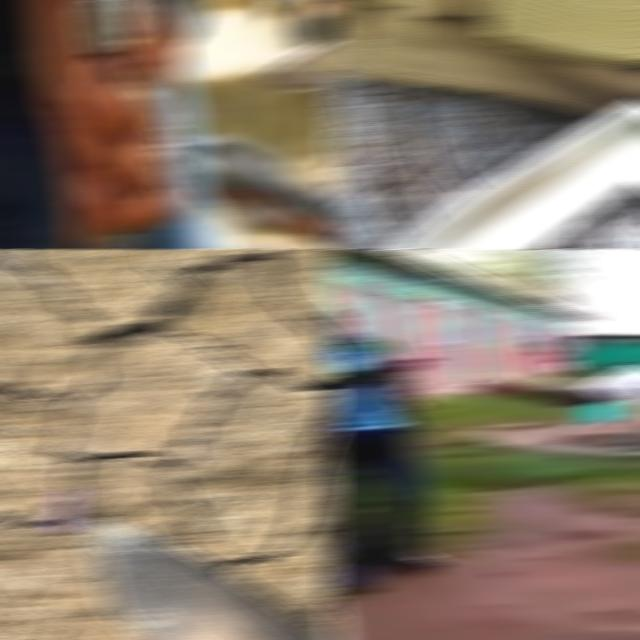Knife: (385, 98, 640, 249), (72, 0, 124, 54)
